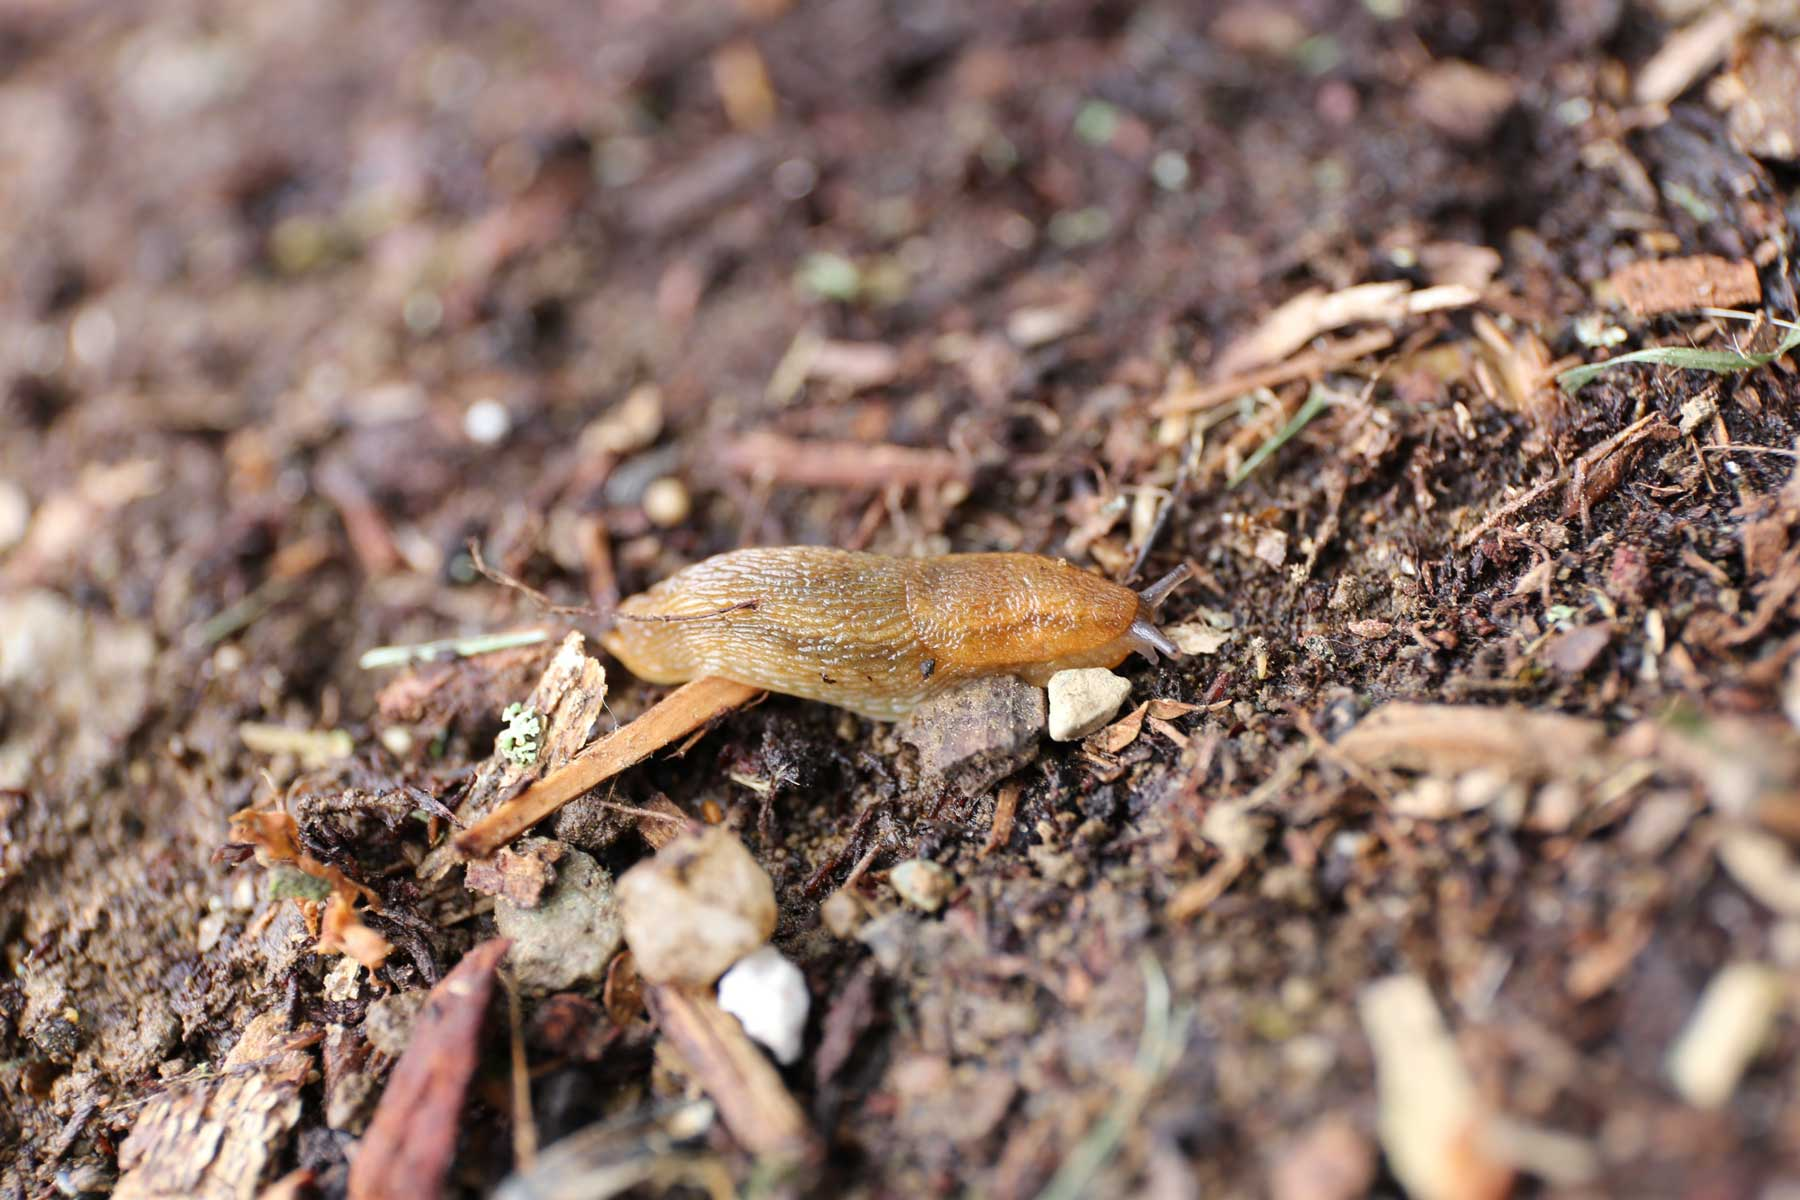slug: (587, 538, 1196, 707)
